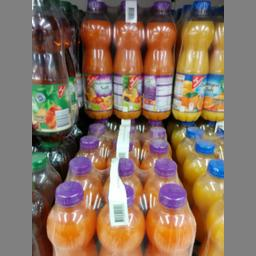juice: (31, 0, 71, 141), (172, 0, 214, 121), (77, 0, 112, 119), (143, 0, 177, 120), (110, 0, 143, 118)
